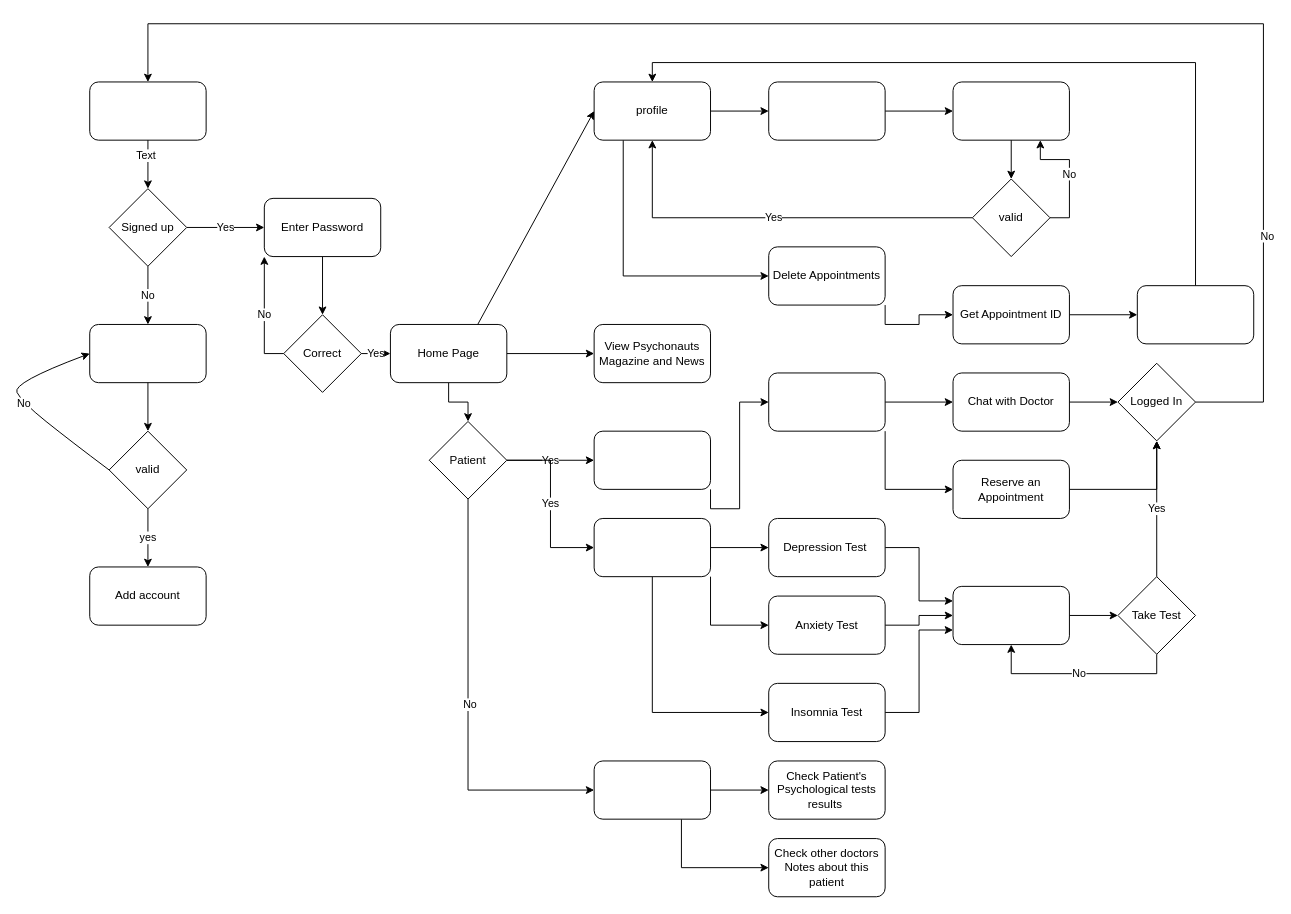
Image size: 1291x914. Some labels were removed from this diagram. Each missing label, with the centre of its shape:
Delete Appointment: point 1195,314
Doctor List: point 652,459
Edit Form: point 1010,110
Edit Profile: point 826,110
General Information About the Test: point 1010,615
Login: point 147,110
Psychological Test: point 652,547
Sign Up Form: point 147,353
View Doctor Profile: point 826,401
View Patient Profile: point 652,789
